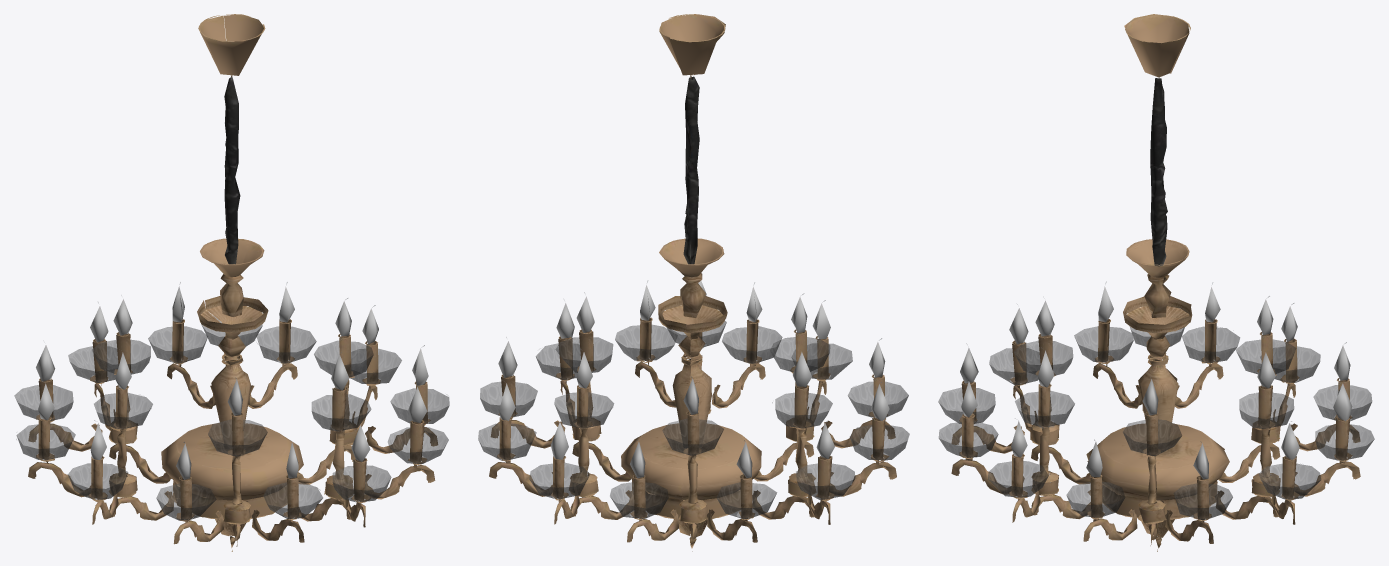
The model's file is ph_Chandelier_03.glb.
3 renders of one model, left to right at view 1: azimuth 30°, elevation 25°; view 2: azimuth 150°, elevation 25°; view 3: azimuth 270°, elevation 25°, orthographic.
Visible parts, largest first — view 1: Chandelier_03; view 2: Chandelier_03; view 3: Chandelier_03.
Part boxes in pixels (left/top/right/bottom): Chandelier_03: left=14, top=14, right=449, bottom=551; Chandelier_03: left=478, top=14, right=909, bottom=551; Chandelier_03: left=938, top=14, right=1374, bottom=551.
Size of the model in its own units: 0.7781 by 1.04 by 0.7881.
2 materials, 2 textured.
